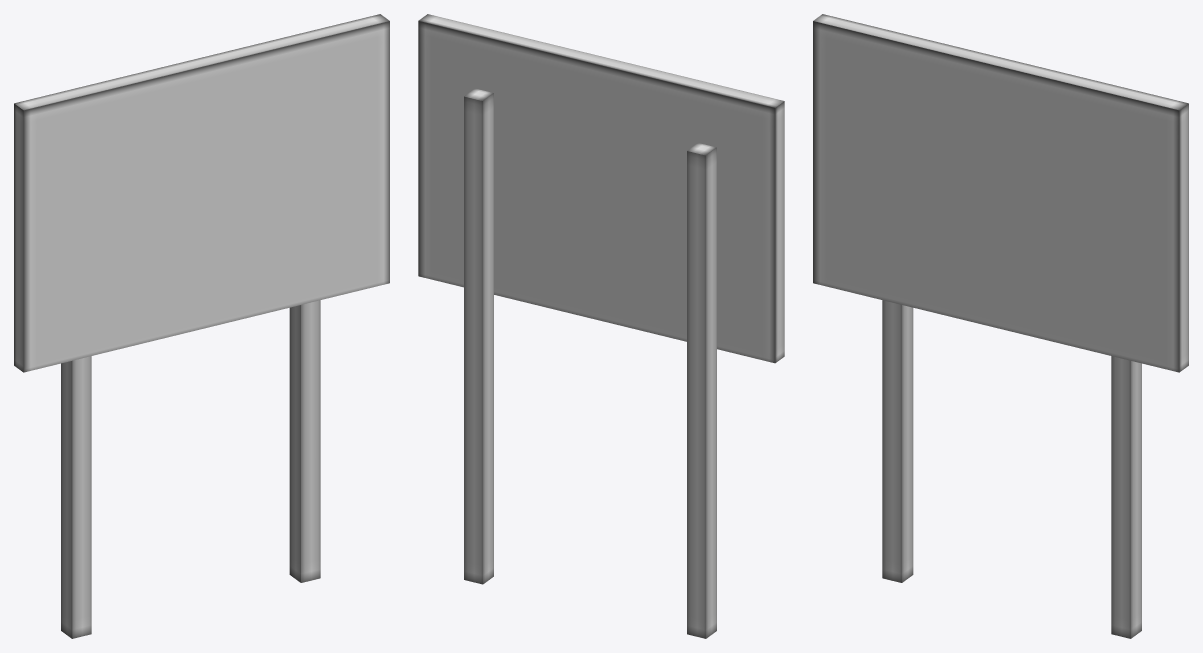
File: Sign-06.fbx
3 views of the same model, side by side, from view 1: azimuth 30°, elevation 25°; view 2: azimuth 150°, elevation 25°; view 3: azimuth 330°, elevation 25° (orthographic). The views are drawn at different scales.
Visible parts, largest first — view 1: Sign_06; view 2: Sign_06; view 3: Sign_06.
Part boxes in pixels (box(x1,y1,x2,y2)): Sign_06: box(14, 14, 389, 638); Sign_06: box(418, 14, 784, 638); Sign_06: box(813, 14, 1188, 638).
Bounding box in the file's own units: 0.8897 × 1.28 × 0.0912.
